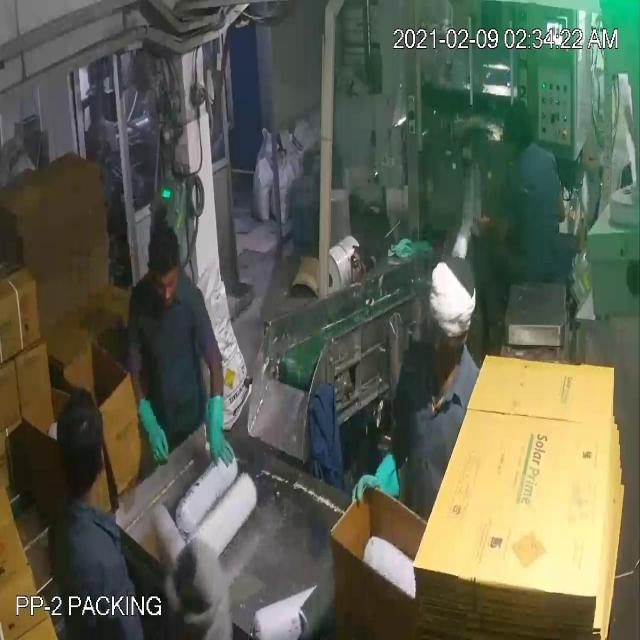Gloves: (40, 52, 494, 478)
